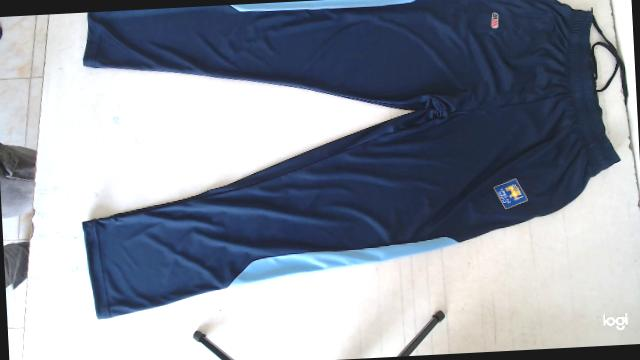new-garment: (82, 0, 619, 317)
